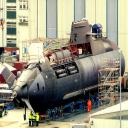submarine: (2, 20, 128, 121)
